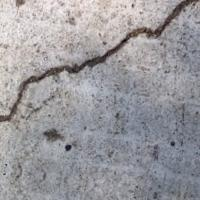crack: (0, 1, 194, 127)
